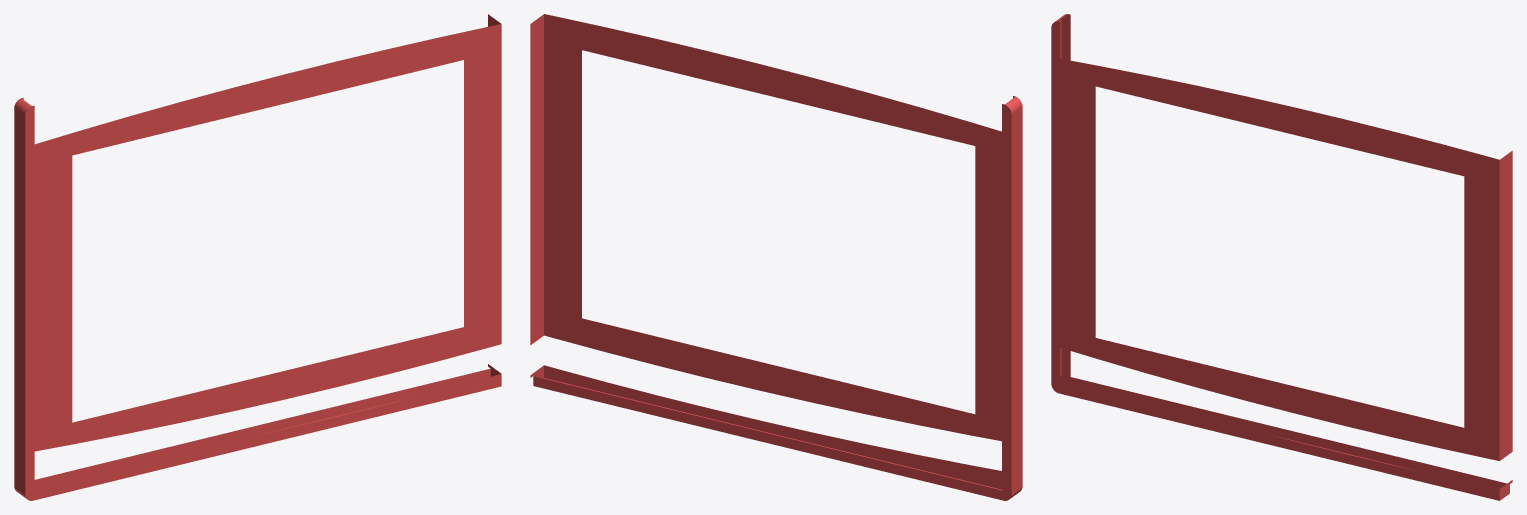
File: original_4.obj
3 renders of one model, left to right at view 1: azimuth 30°, elevation 25°; view 2: azimuth 150°, elevation 25°; view 3: azimuth 330°, elevation 25°, orthographic. The views are drawn at different scales.
Parts seen in each view (by area): view 1: #ID25; view 2: #ID25; view 3: #ID25.
Boxes of the visible parts, x1,y1,x2,y2 form: #ID25: (14,14,501,500); #ID25: (530,14,1022,500); #ID25: (1051,14,1512,500).
Bounding box in the file's own units: 1.21 × 0.9616 × 0.0601.
